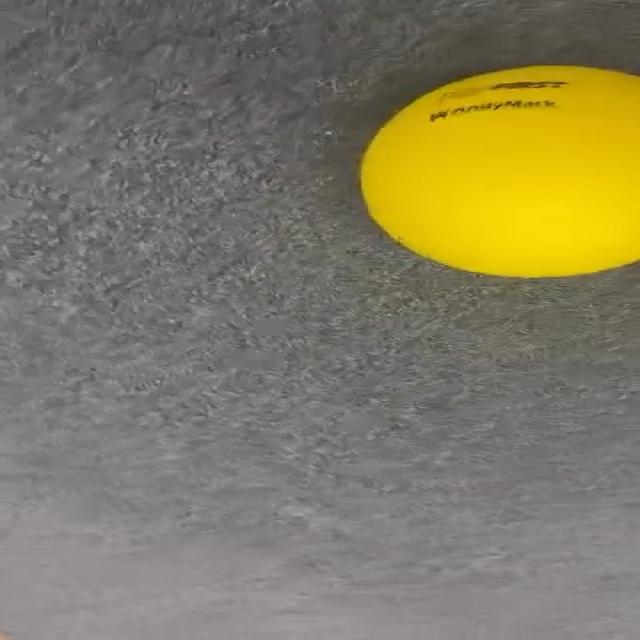Fuels: (366, 62, 640, 278)
